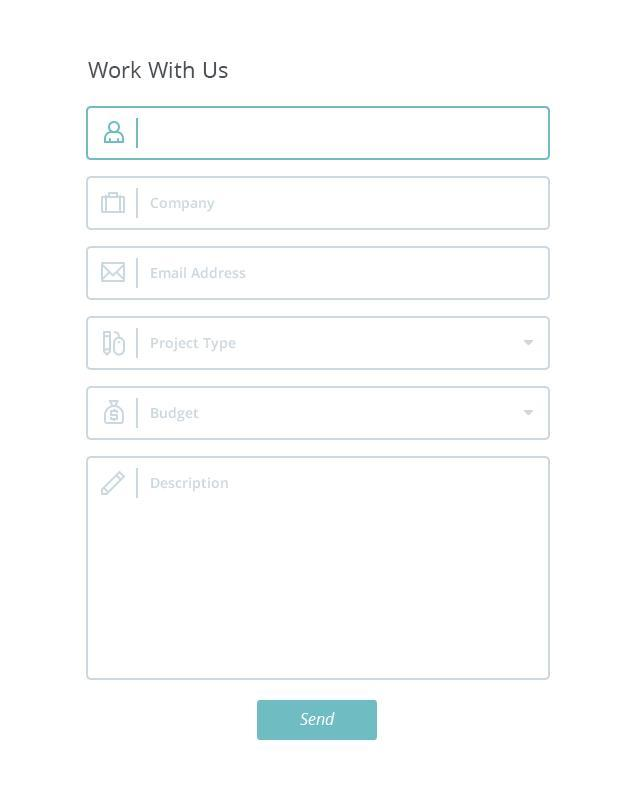button: (260, 703, 379, 741)
dropdown: (86, 314, 553, 371), (90, 388, 551, 440)
input: (88, 456, 550, 682), (91, 180, 550, 234), (89, 109, 549, 159), (87, 250, 552, 299)
